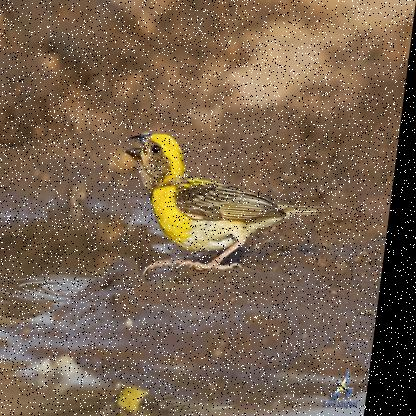Burung: (113, 132, 342, 275)
